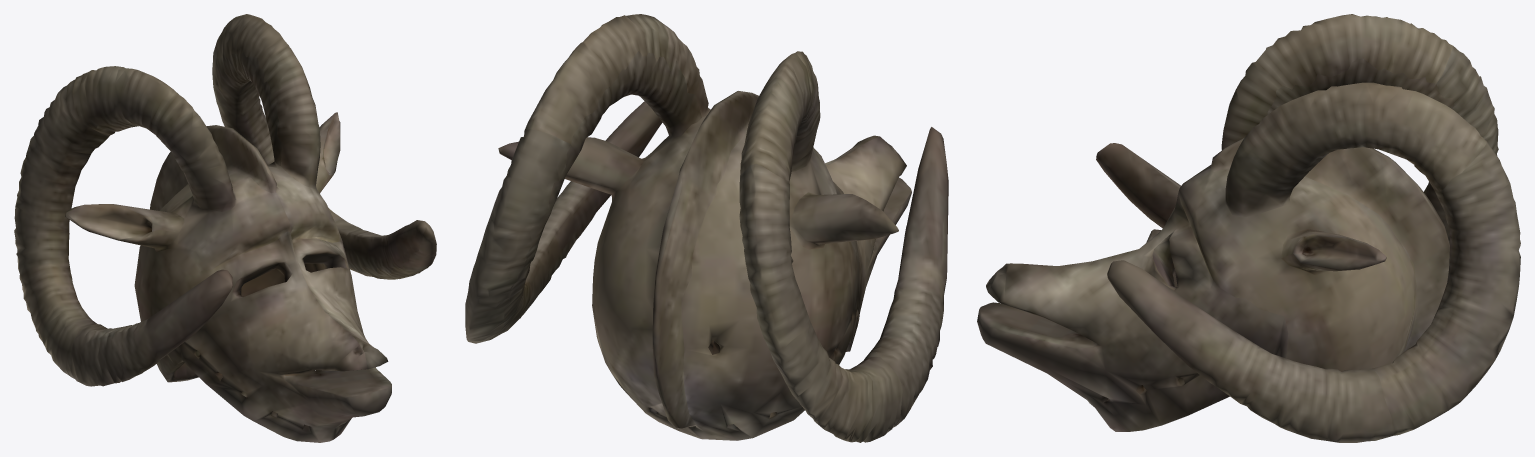
The model's file is cma-bobo-ram-mask.lod1.glb.
3 views of the same model, side by side, from view 1: azimuth 30°, elevation 25°; view 2: azimuth 150°, elevation 25°; view 3: azimuth 270°, elevation 25° (orthographic). The views are drawn at different scales.
Parts seen in each view (by area): view 1: 2016.56_ram_mask_bolo; view 2: 2016.56_ram_mask_bolo; view 3: 2016.56_ram_mask_bolo.
Part boxes in pixels (bbox=[...]): 2016.56_ram_mask_bolo: bbox=[14, 14, 436, 442]; 2016.56_ram_mask_bolo: bbox=[465, 14, 948, 442]; 2016.56_ram_mask_bolo: bbox=[977, 14, 1520, 442].
Size of the model in its own units: 0.3737 by 0.36 by 0.473.
1 material, 1 textured.
